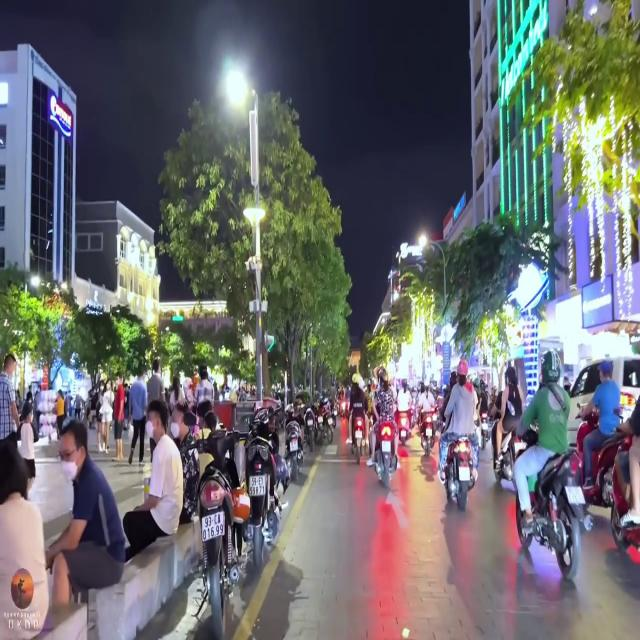bien_trang: (197, 508, 225, 541), (248, 473, 267, 499)
